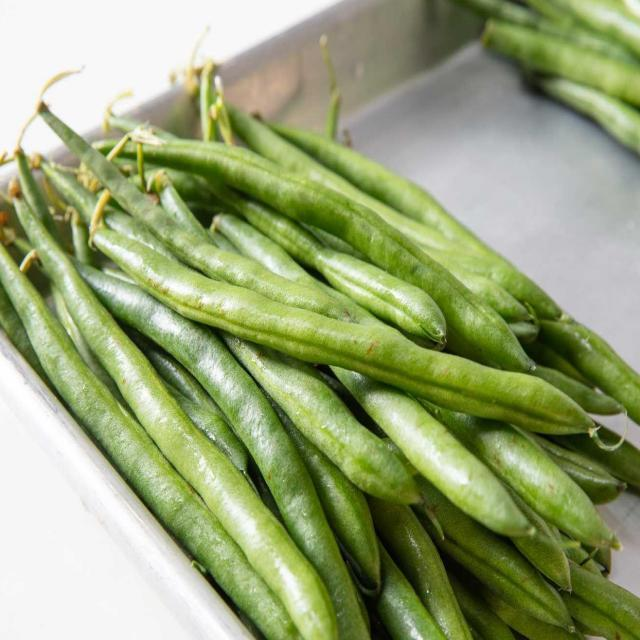Beans: (0, 40, 639, 639), (446, 0, 639, 166)
